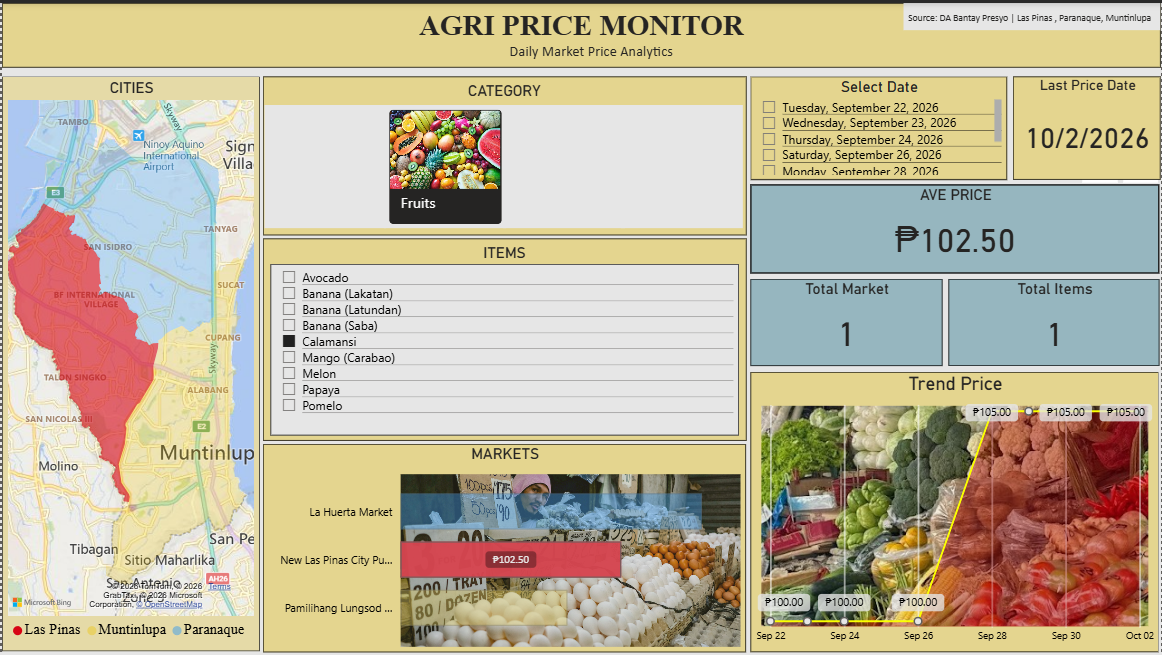

What the dashboard file says about the page in this screenshot:
{"tool":"powerbi","page":{"name":"Market Price Overview","canvas":[1280,720],"ordinal":0},"visuals":[{"type":"textbox","box":[288,260,534,223],"z":0},{"type":"textbox","box":[0,0,1280.5,71.2],"z":1000},{"type":"textbox","box":[995.5,0,284.9,29.8],"z":2000},{"type":"card","title":"AVE PRICE","fields":{"Values":["agriproject_db vw_price_analysis.Average Price"]},"box":[826.6,200.4,452.2,97.7],"z":3000},{"type":"card","title":"Total Items ","fields":{"Values":["agriproject_db vw_price_analysis.Items Covered"]},"box":[1044.7,304.9,234.1,95.9],"z":4000},{"type":"card","title":"Total Market","fields":{"Values":["agriproject_db vw_price_analysis.Markets covered"]},"box":[826.6,304.8,212,96.1],"z":5000},{"type":"card","title":"Last Price Date","fields":{"Values":["agriproject_db vw_price_analysis.Lates Price Date"]},"box":[1116.5,81.2,164,114.3],"z":6000},{"type":"slicer","title":"Select Date","fields":{"Values":["agriproject_db vw_price_analysis.price_date"]},"box":[826.6,81.2,283.3,114.3],"z":7000},{"type":"slicer","title":"ITEMS","fields":{"Values":["agriproject_db vw_price_analysis.item_name"]},"box":[297,288,517,189],"z":8000},{"type":"filledMap","title":"CITIES","fields":{"Category":["agriproject_db vw_price_analysis.city_name"],"Series":["agriproject_db vw_price_analysis.city_name"]},"box":[0,81.2,284.9,634.4],"z":9000},{"type":"lineChart","title":"Trend Price","fields":{"Y":["agriproject_db vw_price_analysis.Average Price"],"Category":["agriproject_db vw_price_analysis.price_date.Variation.Date Hierarchy.Year","agriproject_db vw_price_analysis.price_date.Variation.Date Hierarchy.Quarter","agriproject_db vw_price_analysis.price_date.Variation.Date Hierarchy.Month","agriproject_db vw_price_analysis.price_date.Variation.Date Hierarchy.Day"]},"box":[826.8,408.2,451.5,309.3],"z":10000},{"type":"barChart","title":"MARKETS","fields":{"Category":["agriproject_db vw_price_analysis.market_name"],"Y":["agriproject_db vw_price_analysis.Average Price"]},"box":[288.2,487,533.4,230.3],"z":11000},{"type":"textbox","box":[288,81,534,175],"z":12000},{"type":"advancedSlicerVisual","fields":{"Values":["agriproject_db vw_price_analysis.category_name"]},"box":[422.1,112.1,134,136],"z":13000},{"type":"advancedSlicerVisual","fields":{"Values":["agriproject_db vw_price_analysis.category_name"]},"box":[553.1,112.1,134,136],"z":14000},{"type":"advancedSlicerVisual","fields":{"Values":["agriproject_db vw_price_analysis.category_name"]},"box":[290.1,112.1,134,136],"z":15000},{"type":"advancedSlicerVisual","fields":{"Values":["agriproject_db vw_price_analysis.category_name"]},"box":[684.1,112.1,134,136],"z":16000}]}

Visuals, with their boxes in screenshot pixels (x1, y1, x2, y2), scaled from the page's 1280x720 canvas onto the 1162x655 screenshot:
textbox: (261,237,746,439)
textbox: (0,0,1161,65)
textbox: (904,0,1161,27)
"AVE PRICE" card: (750,182,1161,271)
"Total Items " card: (948,277,1161,365)
"Total Market" card: (750,277,943,365)
"Last Price Date" card: (1014,74,1161,178)
"Select Date" slicer: (750,74,1008,178)
"ITEMS" slicer: (270,262,739,434)
"CITIES" filledMap: (0,74,259,651)
"Trend Price" lineChart: (751,371,1160,653)
"MARKETS" barChart: (262,443,746,653)
textbox: (261,74,746,233)
advancedSlicerVisual - agriproject_db vw_price_analysis.category_name: (383,102,505,226)
advancedSlicerVisual - agriproject_db vw_price_analysis.category_name: (502,102,624,226)
advancedSlicerVisual - agriproject_db vw_price_analysis.category_name: (263,102,385,226)
advancedSlicerVisual - agriproject_db vw_price_analysis.category_name: (621,102,743,226)
